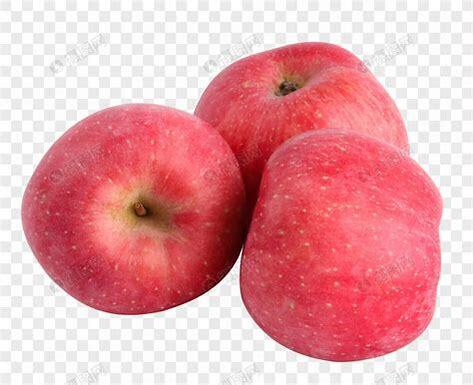apple: (22, 102, 246, 315), (239, 128, 441, 361), (194, 42, 412, 230)
